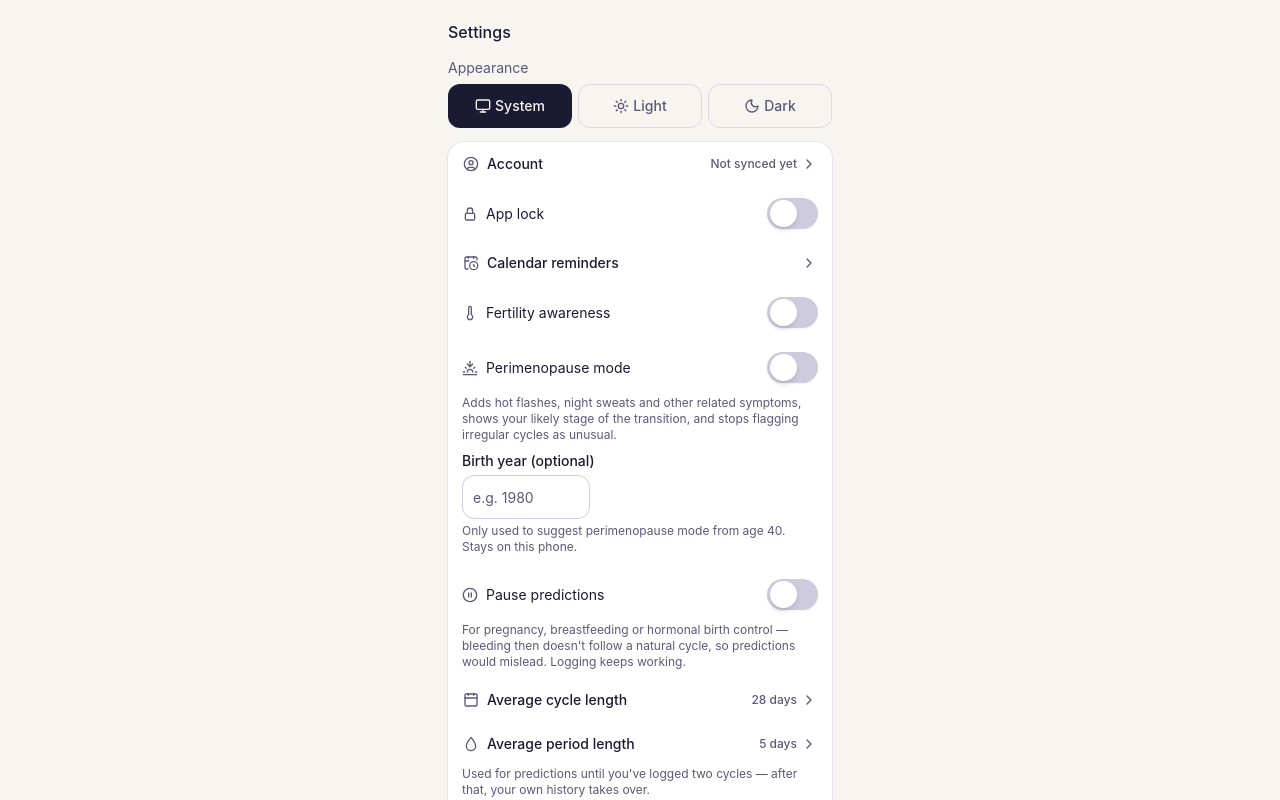
Test: Calendar reminders → Notifications (T103) › turns on with the reminder times for the next predicted periods
Click the button "Calendar reminders": (553, 262) 448,241 -> 832,285
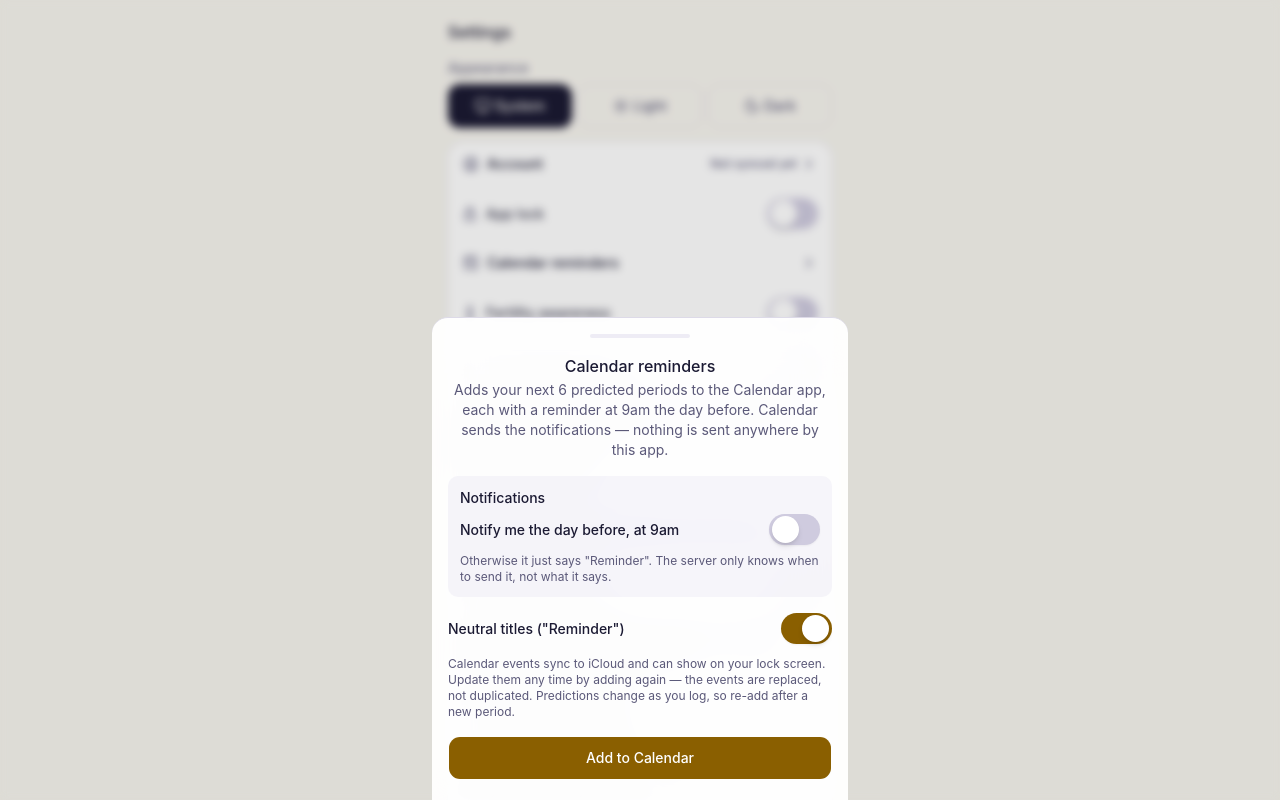
Result: the text "Notifications" is shown at 460,489 -> 545,506
Click the switch named "Notify me the day before, at 9am": (794, 530) 769,514 -> 820,545
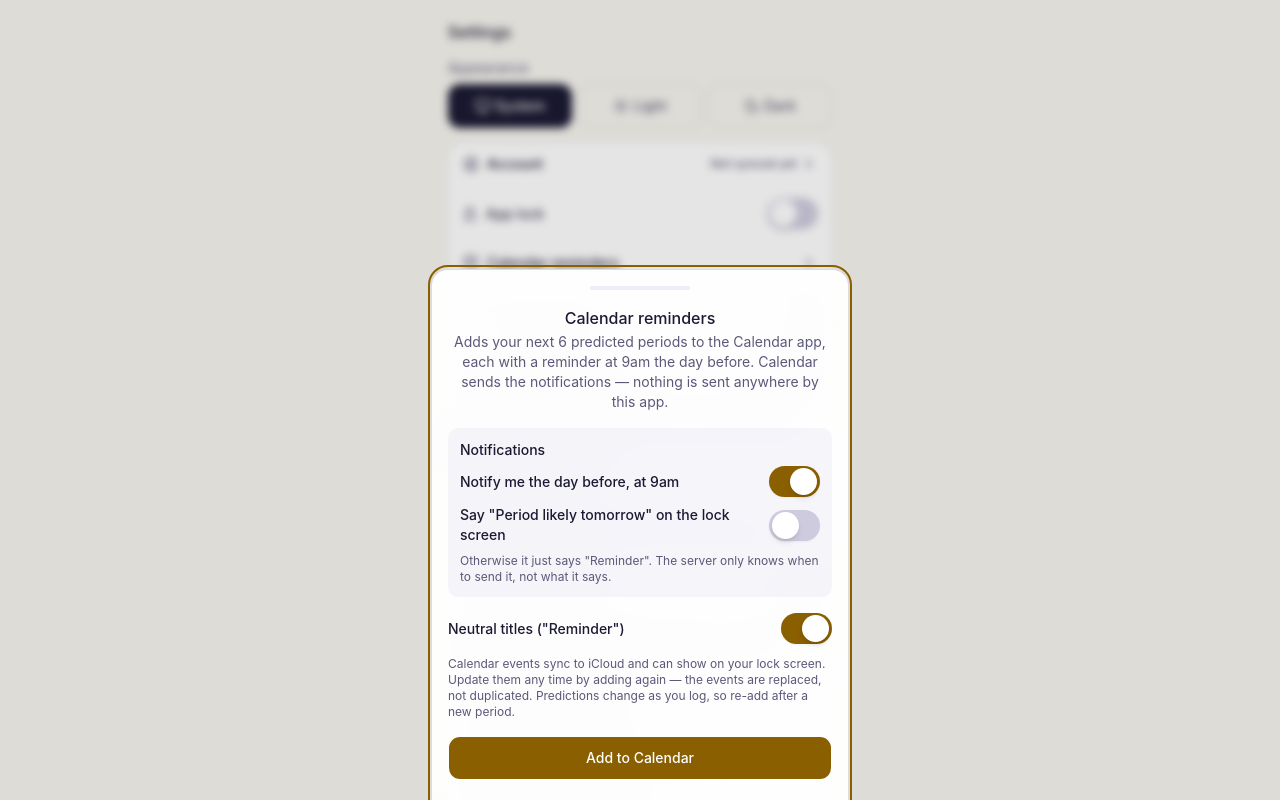
Result: the 2nd switch named "Period likely tomorrow" is not checked at 769,510 -> 820,540
